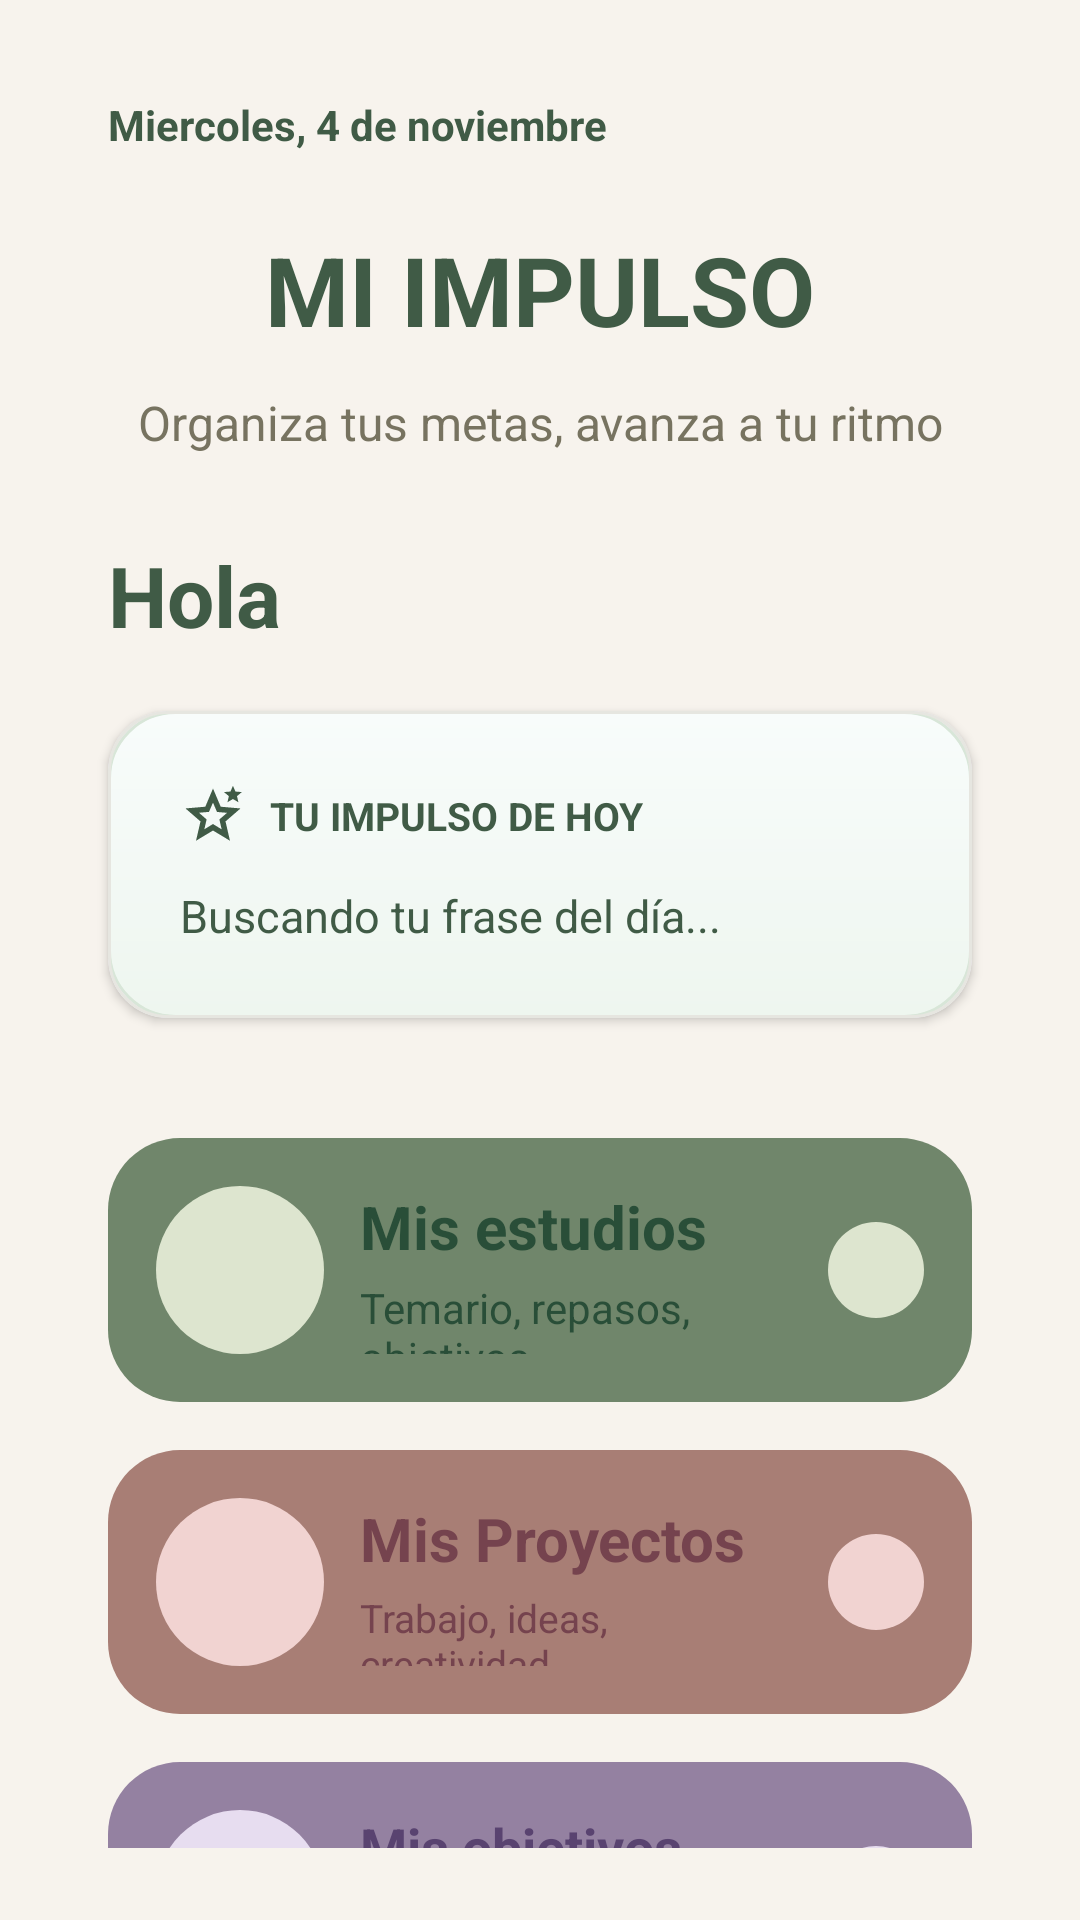

Icon click points for this 1080x1920 phone screenshot, format [x,y]:
Inspiración: [214,813]
